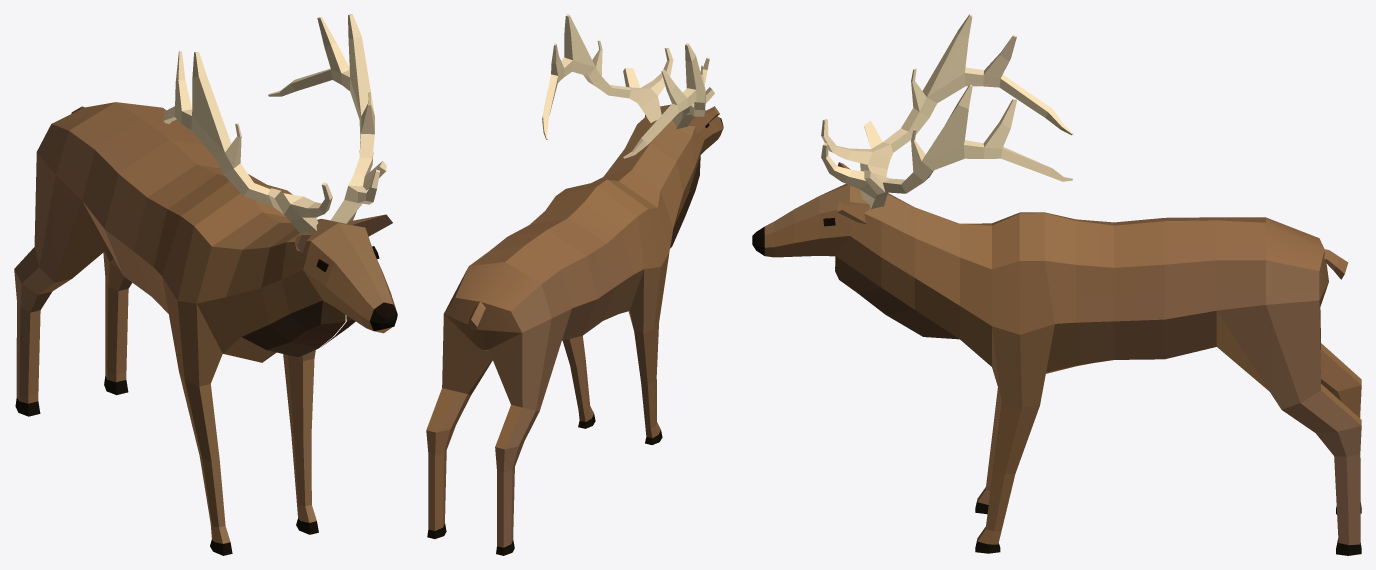
File: animals-elk-087.glb
3 renders of one model, left to right at view 1: azimuth 30°, elevation 25°; view 2: azimuth 150°, elevation 25°; view 3: azimuth 270°, elevation 25°, orthographic. The views are drawn at different scales.
Parts seen in each view (by area): view 1: Geo_Elk; view 2: Geo_Elk; view 3: Geo_Elk.
Part boxes in pixels (left/top/right/bottom): Geo_Elk: left=14, top=14, right=397, bottom=555; Geo_Elk: left=426, top=14, right=723, bottom=555; Geo_Elk: left=752, top=14, right=1361, bottom=555.
Bounding box in the file's own units: 67.21 × 193 × 221.
Materials: 1 (1 with a texture image).
